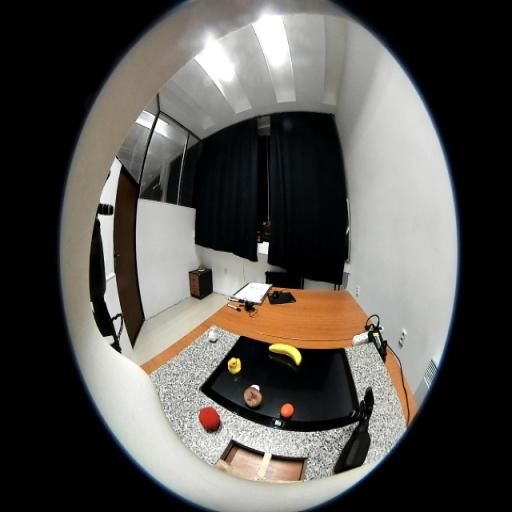Banana: (268, 343, 302, 366)
Duck: (227, 357, 242, 375)
Mushroom: (244, 384, 262, 408)
Onion: (208, 327, 218, 342)
Orange: (280, 402, 294, 418)
RightHand: (359, 407, 373, 424)
Tomato: (199, 407, 220, 430)
